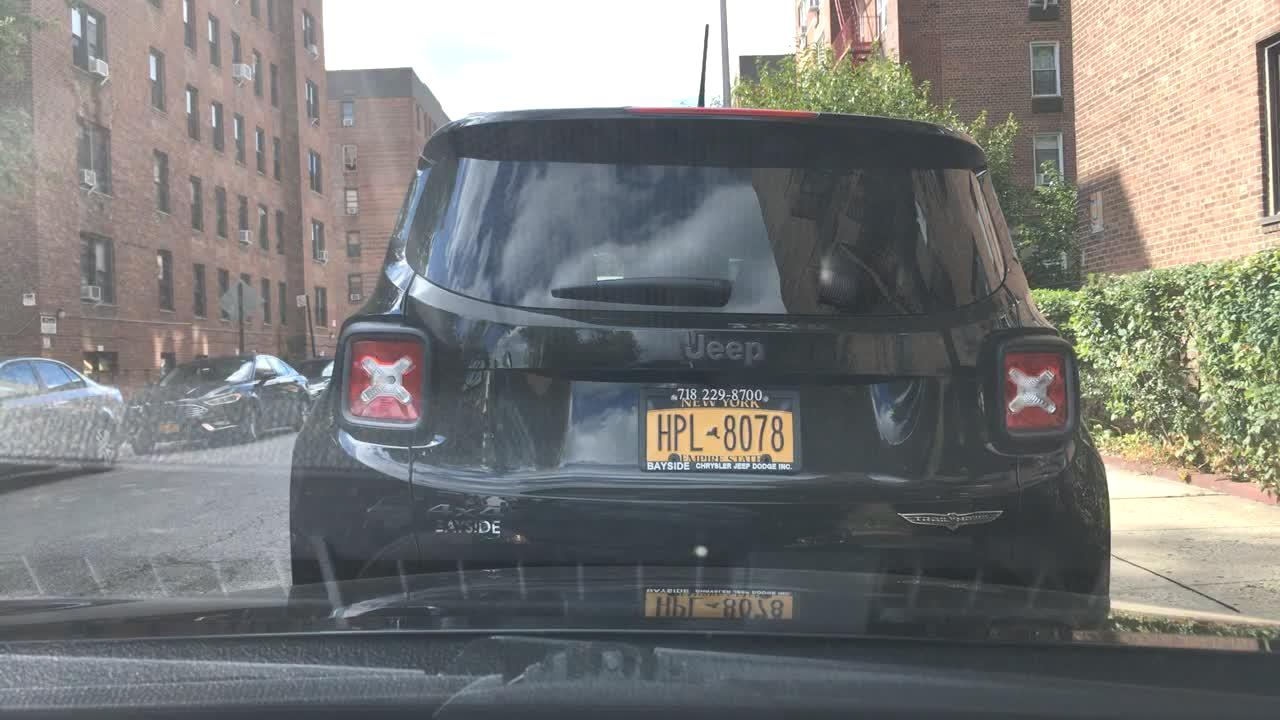jeep: (682, 332, 768, 367)
